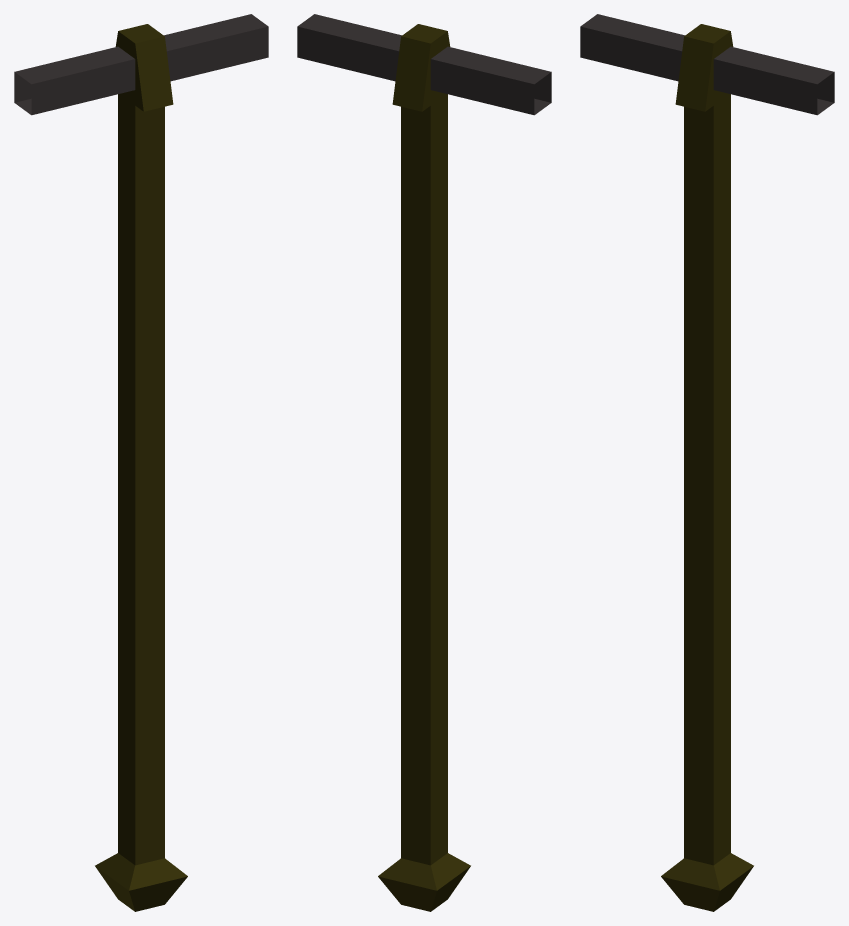
File: obj_ropeswing_5_0.obj
3 views of the same model, side by side, from view 1: azimuth 30°, elevation 25°; view 2: azimuth 150°, elevation 25°; view 3: azimuth 330°, elevation 25° (orthographic).
Bounding box in the file's own units: 1 × 3.5 × 0.25.
